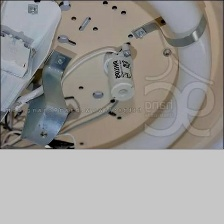light_bulb: (0, 0, 216, 172)
